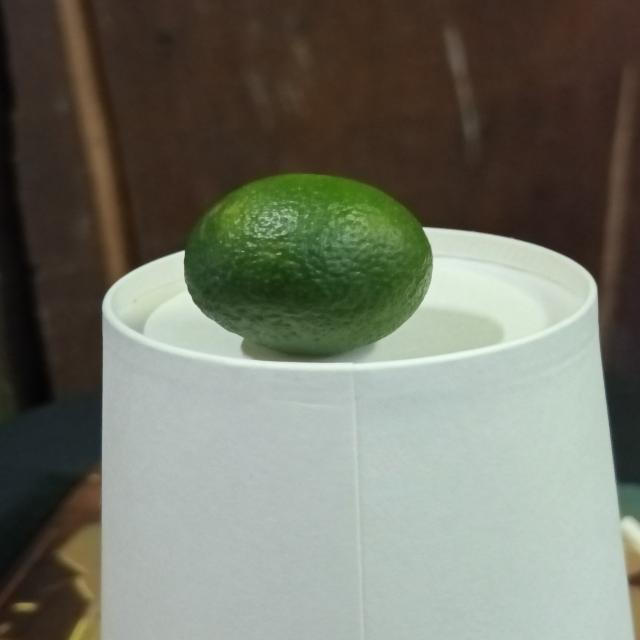heathy: (180, 171, 439, 360)
